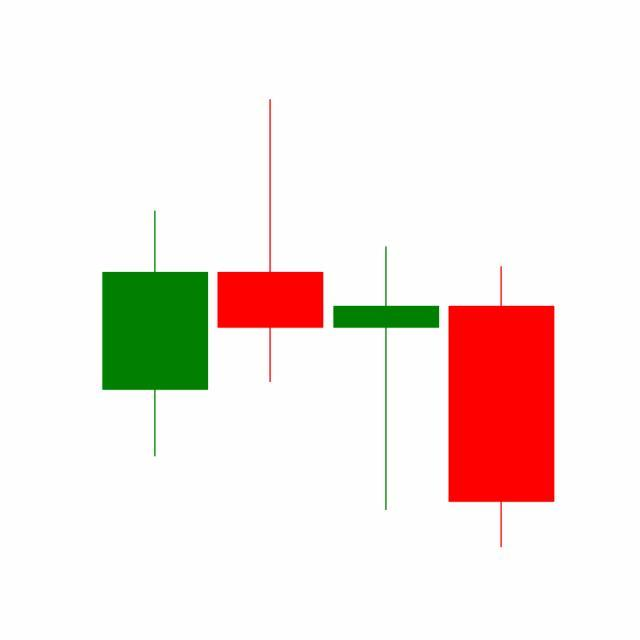Spinning Top: (329, 244, 445, 514)
